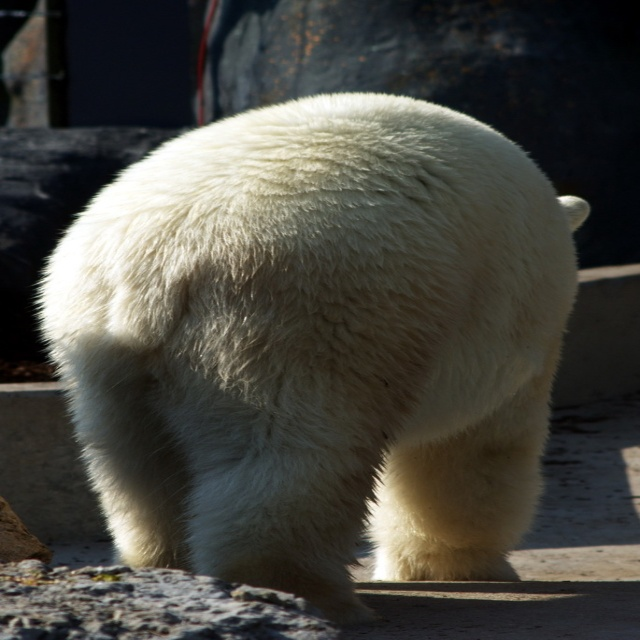Polar bear: (30, 91, 590, 627)
